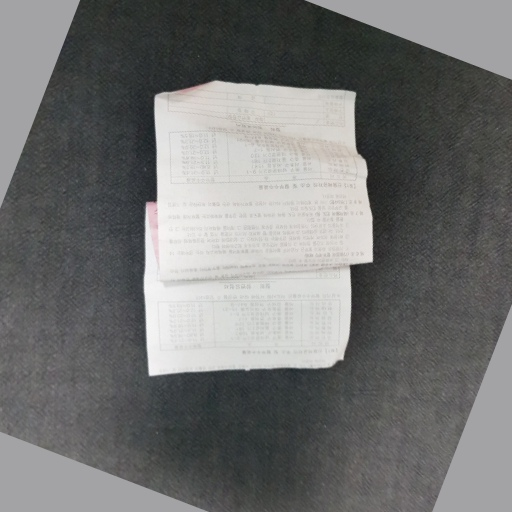Paper_3: (139, 71, 379, 393)
